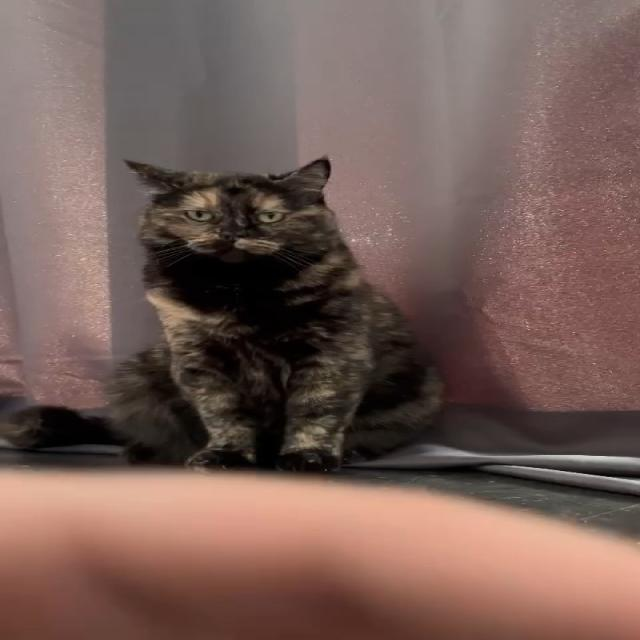authorized: (2, 154, 446, 473)
